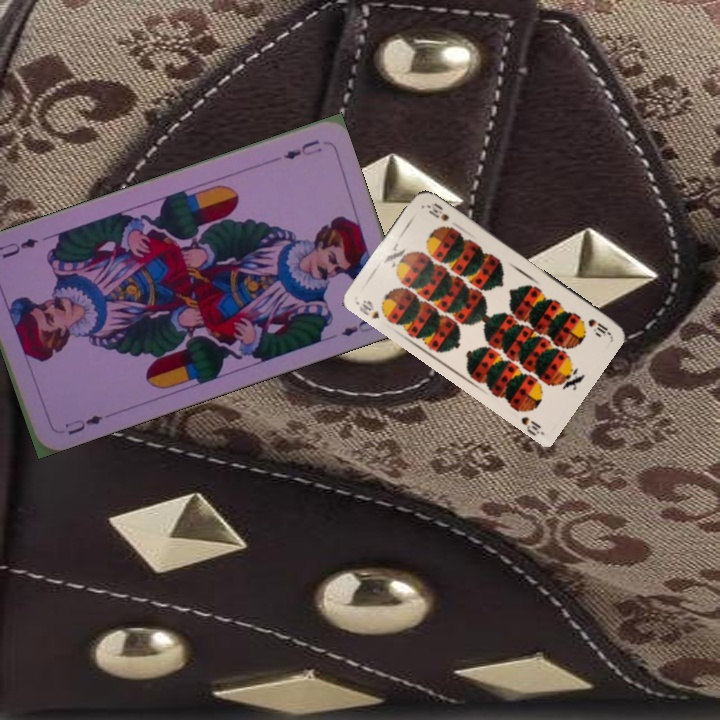EU: (60, 410, 105, 438), (279, 135, 325, 162)
S10: (353, 295, 382, 322), (584, 315, 612, 338)
